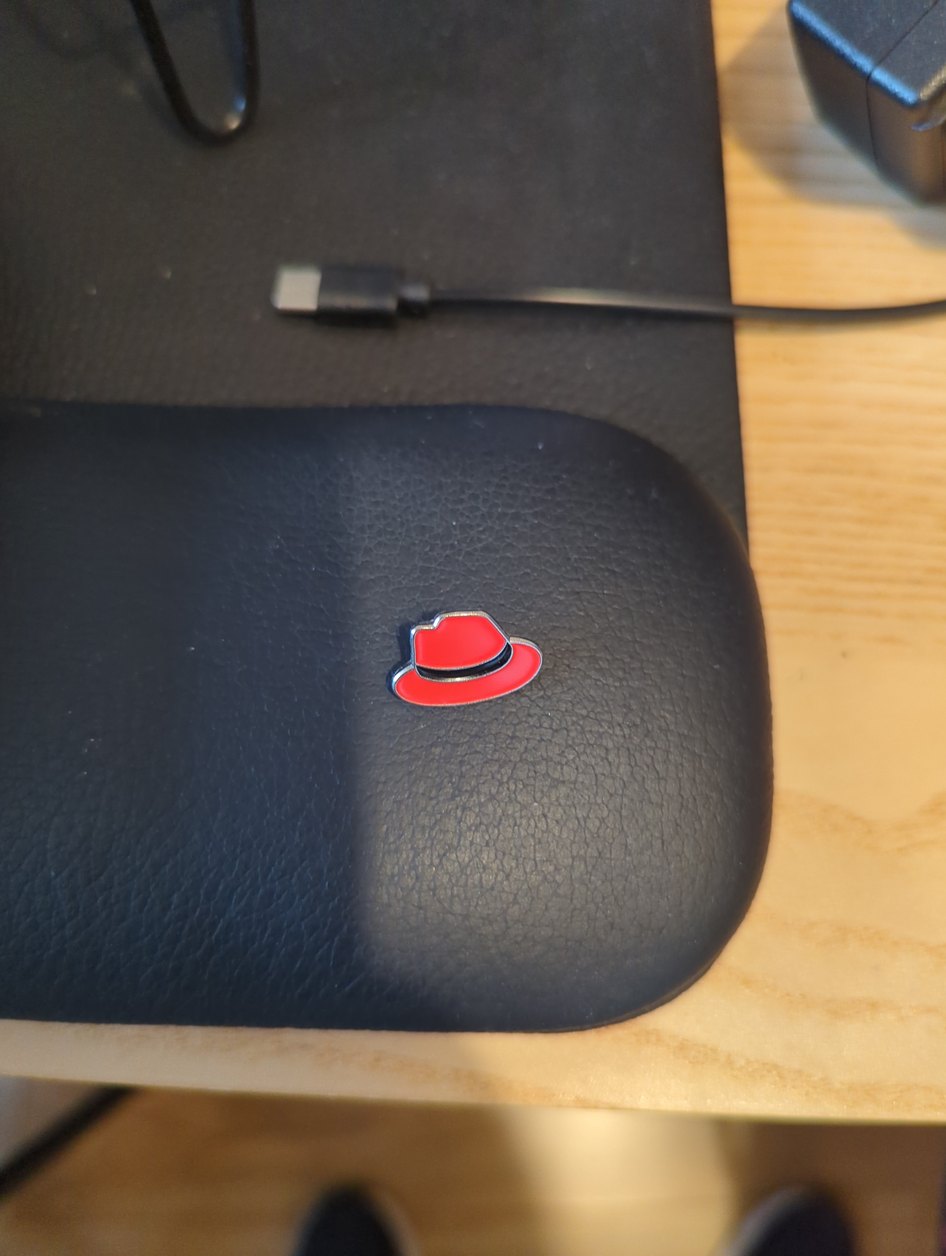Red-Hat: (334, 563, 645, 777)
